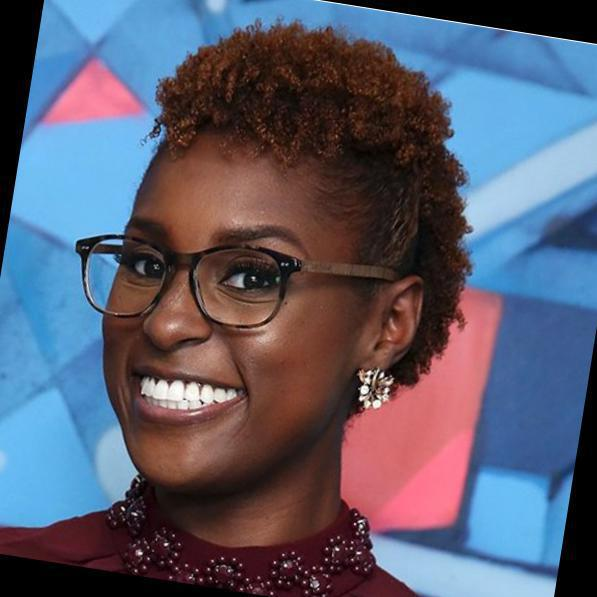Sober: (103, 158, 342, 490)
